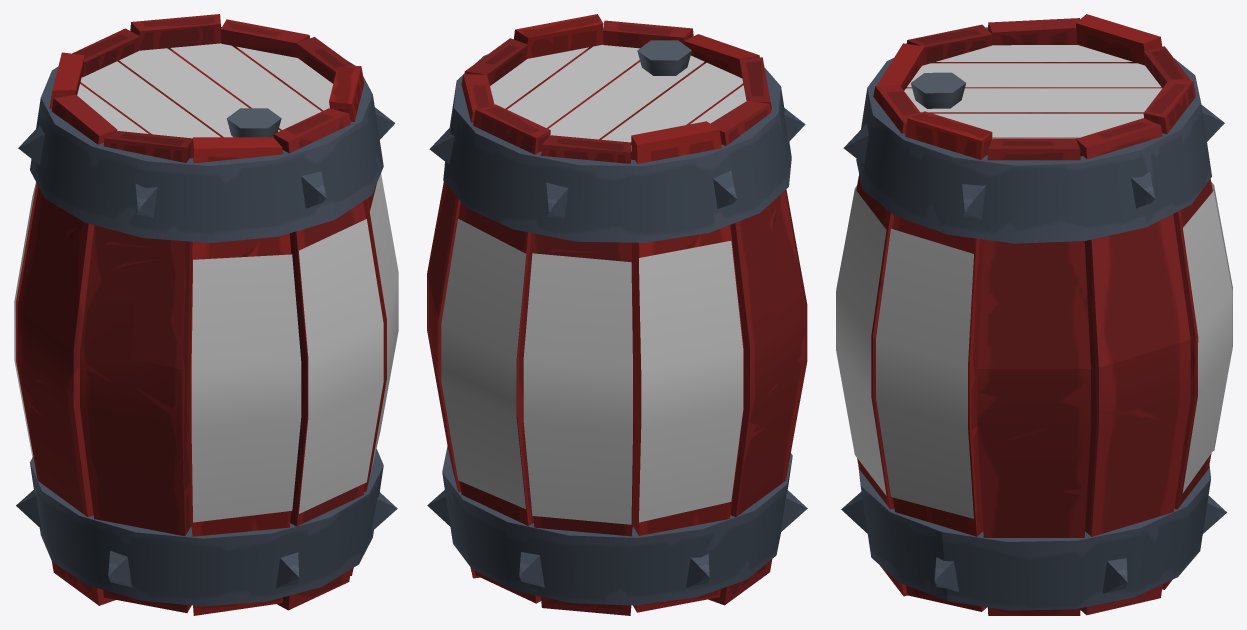
The model's file is ExplosiveBarrel1.fbx.
3 renders of one model, left to right at view 1: azimuth 30°, elevation 25°; view 2: azimuth 150°, elevation 25°; view 3: azimuth 270°, elevation 25°, orthographic.
Visible parts, largest first — view 1: BarrelSidePiece16, BarrelBand1, BarrelSidePiece17, BarrelBand2, BarrelSidePiece2, BarrelSidePiece3, BarrelSidePiece1, BarrelSidePiece9, BarrelSidePiece7, BarrelLidPiece2, BarrelLidPiece3, BarrelLidPiece4 (+8 smaller); view 2: BarrelSidePiece25, BarrelSidePiece18, BarrelBand1, BarrelSidePiece24, BarrelBand2, BarrelSidePiece9, BarrelSidePiece3, BarrelLidPiece2, BarrelLidPiece3, BarrelLidPiece4, BarrelSidePiece15, BarrelSidePiece7 (+8 smaller); view 3: BarrelSidePiece7, BarrelBand1, BarrelBand2, BarrelSidePiece6, BarrelSidePiece4, BarrelSidePiece5, BarrelSidePiece15, BarrelSidePiece24, BarrelSidePiece17, BarrelLidPiece4, BarrelLidPiece3, BarrelLidPiece2 (+8 smaller).
Part boxes in pixels (x1,y1,x2,y2): BarrelSidePiece16: [189, 137, 301, 615]; BarrelBand1: [18, 27, 395, 242]; BarrelSidePiece17: [273, 108, 383, 610]; BarrelBand2: [16, 449, 397, 606]; BarrelSidePiece2: [80, 244, 191, 612]; BarrelSidePiece3: [35, 112, 117, 605]; BarrelSidePiece1: [92, 131, 192, 368]; BarrelSidePiece9: [17, 94, 96, 487]; BarrelSidePiece7: [329, 66, 398, 575]; BarrelLidPiece2: [170, 43, 321, 130]; BarrelLidPiece3: [119, 48, 279, 137]; BarrelLidPiece4: [80, 61, 220, 138]; BarrelSidePiece25: [523, 135, 634, 615]; BarrelSidePiece18: [631, 121, 743, 612]; BarrelBand1: [429, 28, 805, 242]; BarrelSidePiece24: [441, 104, 550, 603]; BarrelBand2: [427, 446, 807, 605]; BarrelSidePiece9: [710, 113, 777, 505]; BarrelSidePiece3: [708, 100, 805, 605]; BarrelLidPiece2: [507, 44, 639, 128]; BarrelLidPiece3: [549, 55, 704, 139]; BarrelLidPiece4: [601, 62, 743, 151]; BarrelSidePiece15: [427, 74, 494, 319]; BarrelSidePiece7: [513, 14, 603, 58]; BarrelSidePiece7: [876, 111, 992, 611]; BarrelBand1: [843, 27, 1224, 243]; BarrelBand2: [841, 465, 1226, 610]; BarrelSidePiece6: [977, 369, 1090, 615]; BarrelSidePiece4: [1080, 340, 1190, 615]; BarrelSidePiece5: [977, 139, 1090, 368]; BarrelSidePiece15: [1076, 118, 1190, 367]; BarrelSidePiece24: [1143, 79, 1232, 589]; BarrelSidePiece17: [836, 84, 920, 596]; BarrelLidPiece4: [907, 63, 1161, 88]; BarrelLidPiece3: [904, 88, 1162, 113]; BarrelLidPiece2: [933, 113, 1143, 138].
Size of the model in its own units: 104 by 148 by 110.
